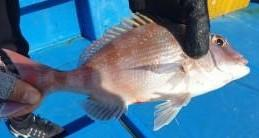fish: (2, 13, 249, 130)
